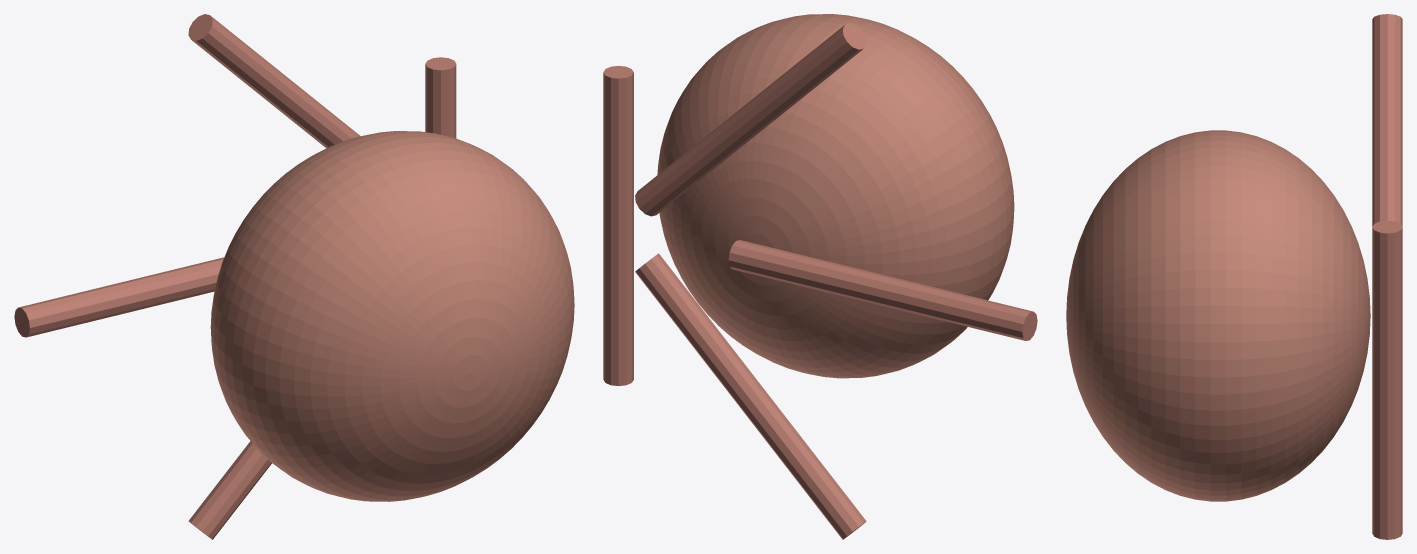
The model's file is pulpo.glb.
The picture shows the model from 3 angles, left to right: view 1: azimuth 30°, elevation 25°; view 2: azimuth 150°, elevation 25°; view 3: azimuth 270°, elevation 25°; orthographic projection. The views are drawn at different scales.
Parts seen in each view (by area): view 1: part0, part3, part2, part4, part6, part1, part7, part8, part5; view 2: part0, part4, part1, part3, part2, part5, part7, part8, part6; view 3: part0, part1, part2, part5, part6.
Part boxes in pixels (bbox=[...]): part0: bbox=[210, 131, 574, 501]; part3: bbox=[14, 257, 224, 337]; part2: bbox=[188, 14, 359, 148]; part4: bbox=[188, 441, 271, 539]; part6: bbox=[189, 14, 358, 147]; part1: bbox=[425, 57, 456, 138]; part7: bbox=[14, 257, 223, 336]; part8: bbox=[189, 443, 271, 538]; part5: bbox=[425, 58, 456, 138]; part0: bbox=[657, 14, 1014, 378]; part4: bbox=[635, 253, 866, 539]; part1: bbox=[603, 65, 633, 386]; part3: bbox=[728, 240, 1037, 340]; part2: bbox=[635, 23, 866, 216]; part5: bbox=[603, 66, 633, 385]; part7: bbox=[729, 240, 1037, 340]; part8: bbox=[637, 254, 864, 538]; part6: bbox=[635, 24, 864, 215]; part0: bbox=[1066, 130, 1370, 501]; part1: bbox=[1372, 220, 1402, 539]; part2: bbox=[1372, 14, 1402, 226]; part5: bbox=[1372, 220, 1402, 539]; part6: bbox=[1372, 14, 1402, 225].
Bounding box in the file's own units: 1.5 × 1.67 × 0.995.
